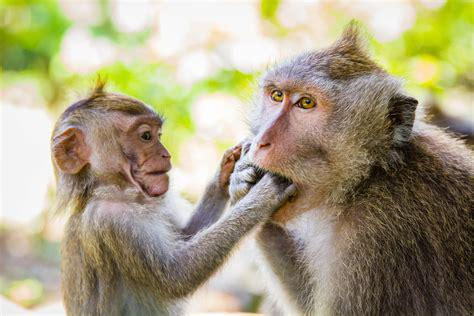monkey: (248, 43, 472, 316), (53, 91, 292, 316)
